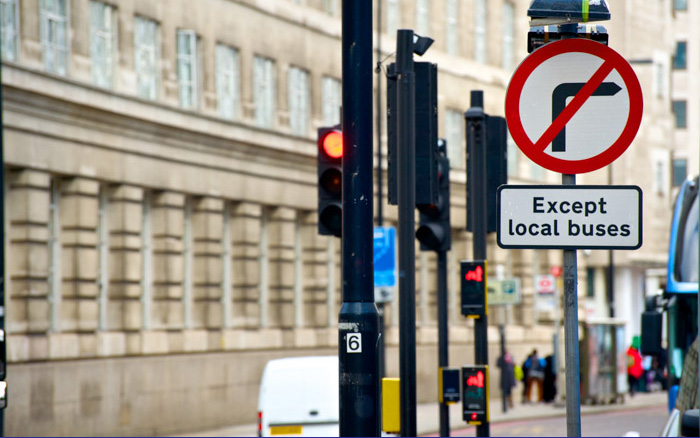No_right_turn: (504, 38, 645, 174)
